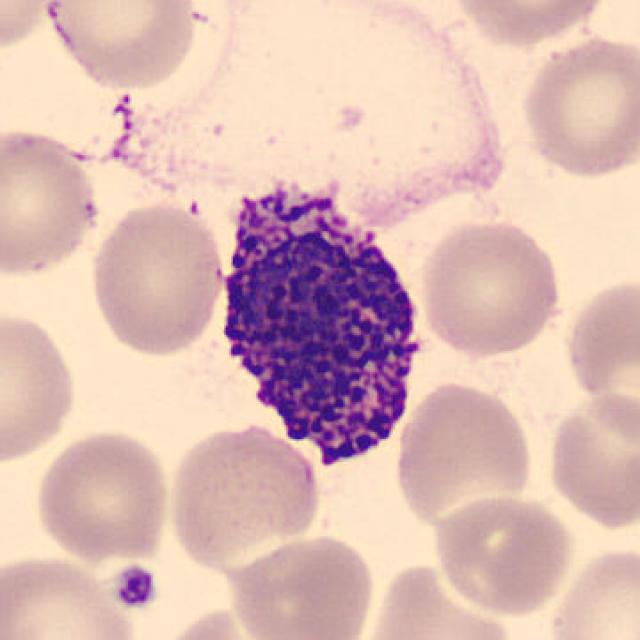Basophil: (204, 168, 436, 483)
Platelets: (108, 562, 160, 612)
RBC: (164, 420, 326, 571), (86, 196, 228, 360), (414, 211, 566, 358), (391, 377, 537, 529), (30, 425, 176, 564), (428, 492, 576, 617), (518, 30, 638, 182), (224, 530, 378, 640), (0, 124, 103, 282), (39, 0, 201, 92), (542, 386, 638, 533), (0, 305, 82, 469), (355, 559, 521, 640), (0, 550, 142, 640), (560, 270, 638, 407), (544, 541, 640, 640), (444, 0, 614, 48), (140, 606, 271, 640), (0, 0, 59, 53)
